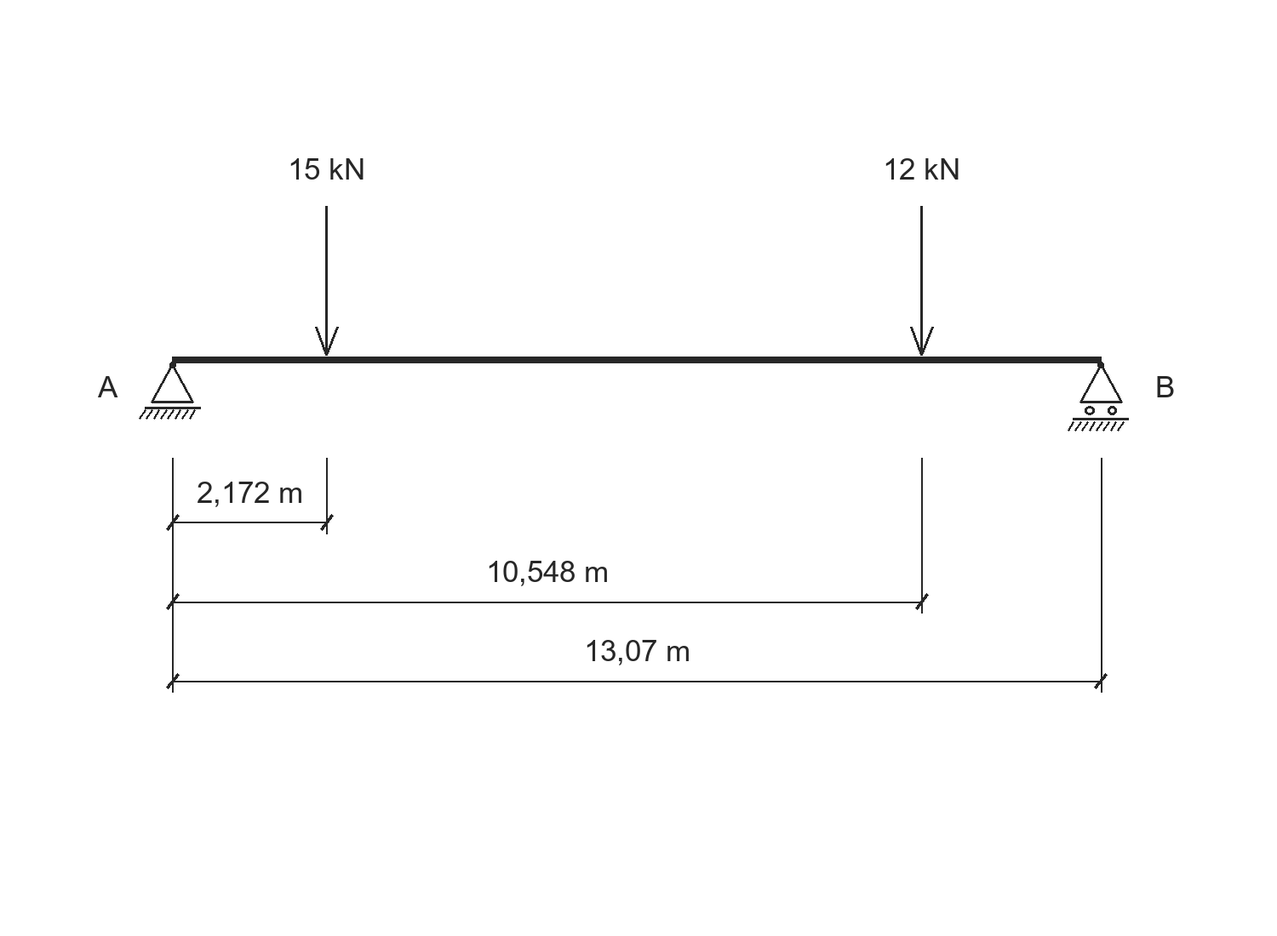pin_support: (139, 362, 201, 419)
point_load: (315, 206, 339, 356), (910, 206, 934, 356)
roller_support: (1068, 362, 1129, 431)
